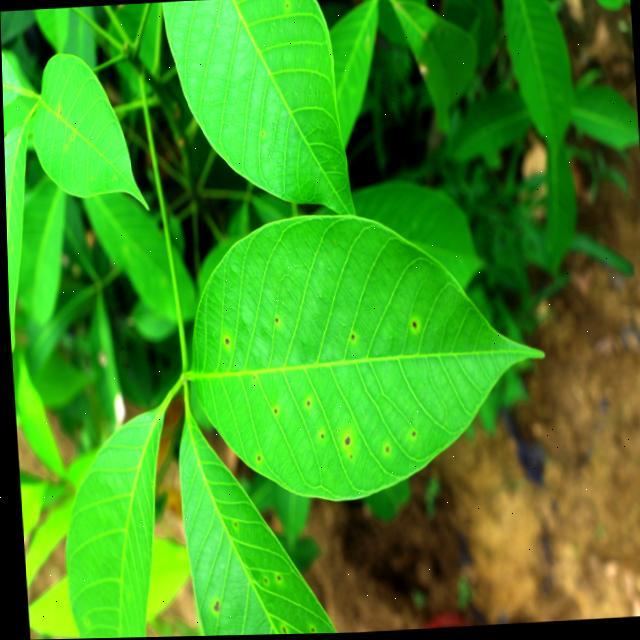Colletotrichum: (343, 438, 347, 446)
